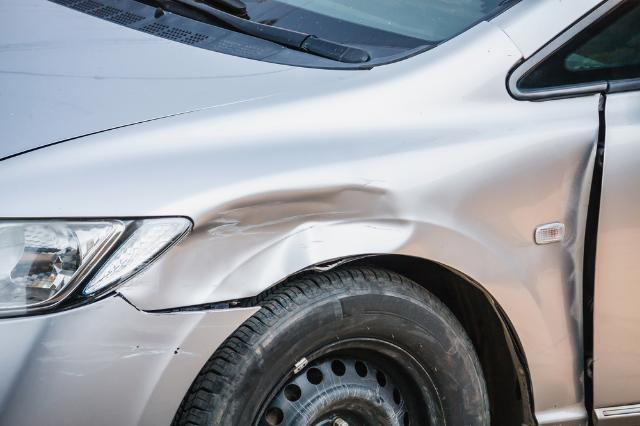dent: (152, 184, 411, 309), (457, 137, 597, 273)
scratch: (35, 336, 200, 375)
